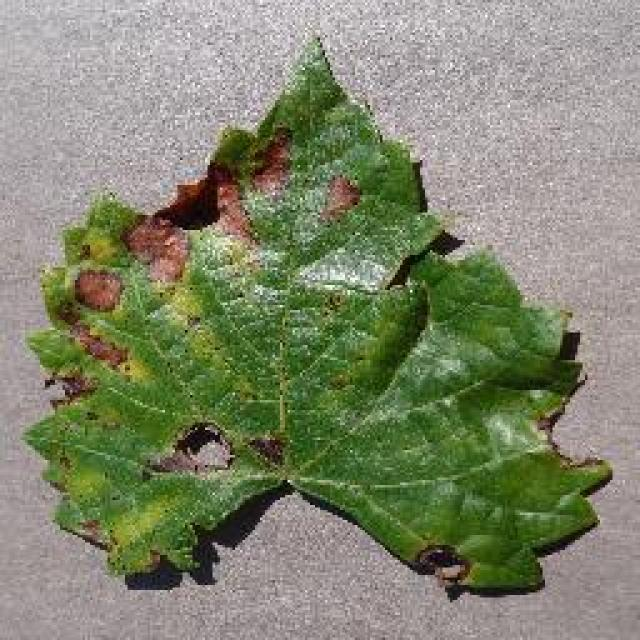Black_Measles: (41, 18, 616, 640)
